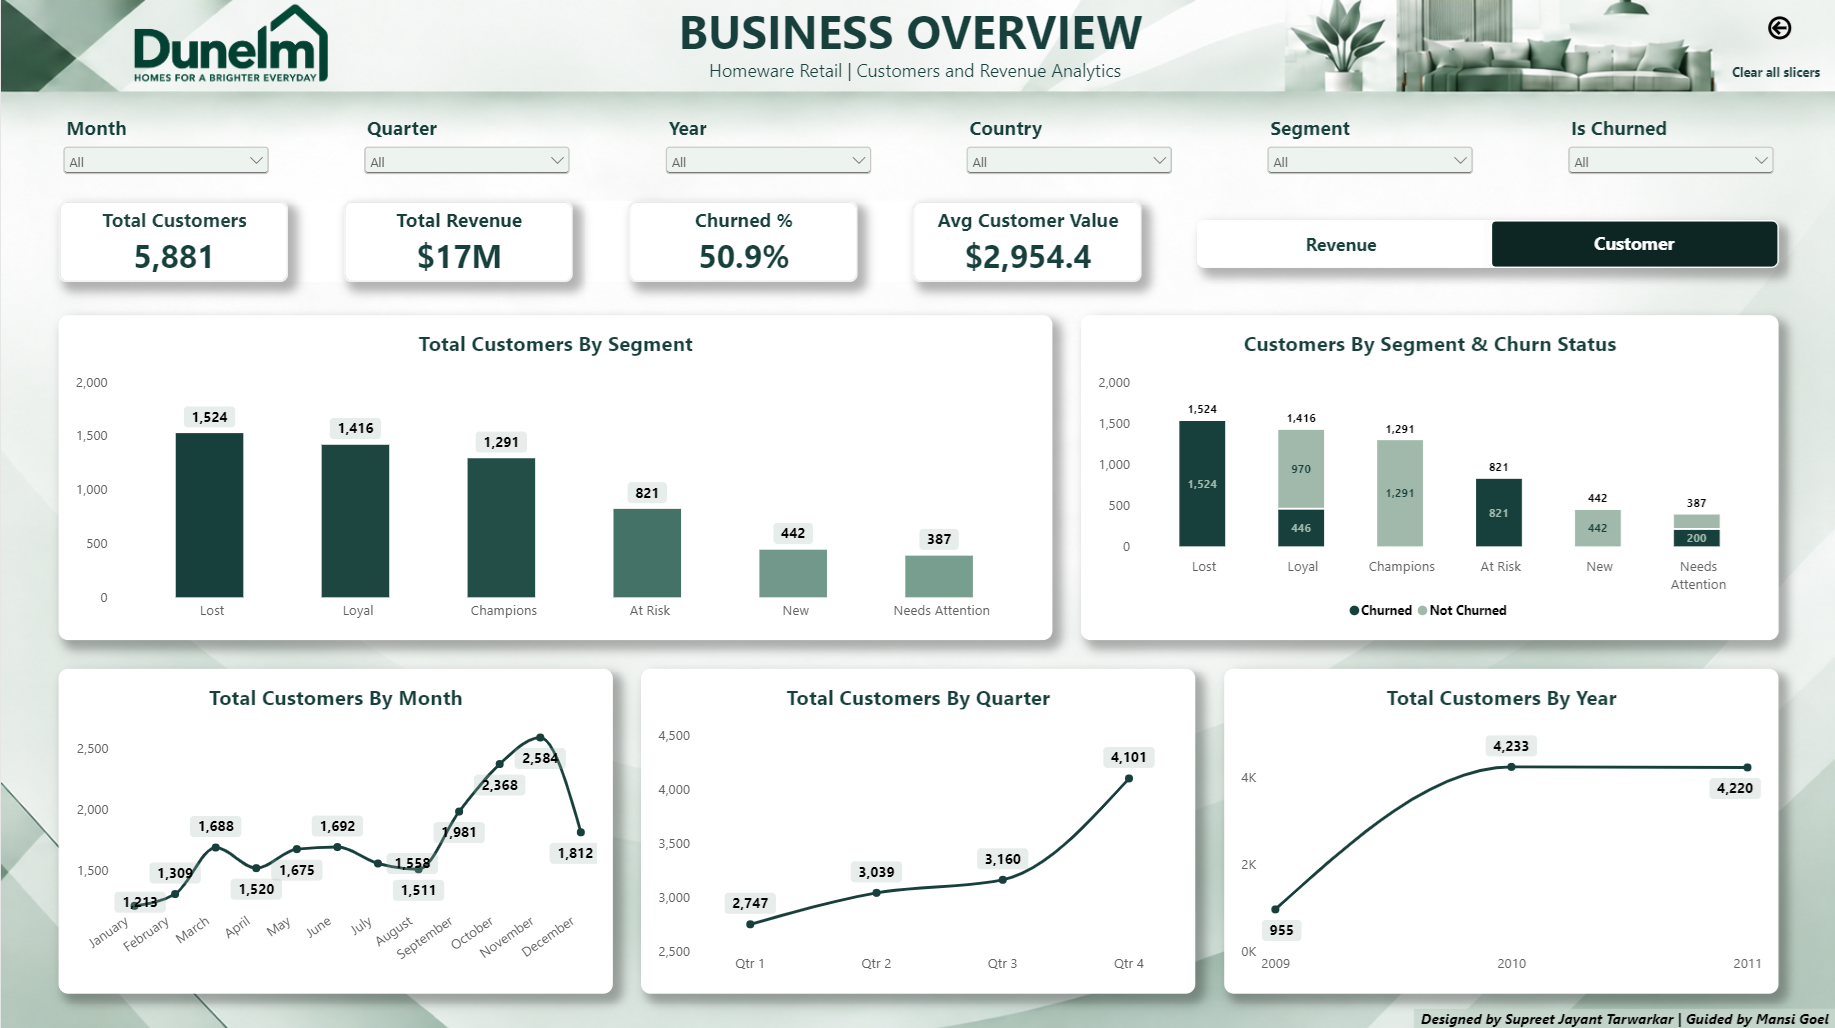

Layout of this report page (visuals, bound fields, positions):
{"tool":"powerbi","page":{"name":"Business Overview","canvas":[1920,1080],"ordinal":1},"visuals":[{"type":"slicer","title":"Month","fields":{"Values":["Sheet1.invoicedate.Variation.Date Hierarchy.Month"]},"box":[60,120,225,65],"z":0,"group":"g3"},{"type":"cardVisual","title":"Total Customers","fields":{"Data":["Cal  Measures.Total Customers"]},"box":[60.4,210,240,85],"z":0,"group":"g2"},{"type":"shape","box":[1478.6,1055.8,441.7,24.2],"z":0},{"type":"slicer","title":"Quarter","fields":{"Values":["Sheet1.invoicedate.Variation.Date Hierarchy.Quarter"]},"box":[375,120,225,65],"z":1000,"group":"g3"},{"type":"cardVisual","title":"Total Revenue","fields":{"Data":["Cal  Measures.Total Revenue"]},"box":[358.2,210,240,85],"z":1000,"group":"g2"},{"type":"textbox","title":"Author","box":[1478.6,1055.8,441.7,24.2],"z":1000},{"type":"slicer","title":"Year","fields":{"Values":["Sheet1.invoicedate.Variation.Date Hierarchy.Year"]},"box":[690,120,225,65],"z":2000,"group":"g3"},{"type":"cardVisual","title":"Churned %","fields":{"Data":["Cal  Measures.Churned %"]},"box":[656.1,210,240,85],"z":2000,"group":"g2"},{"type":"group","id":"g1","title":"Revenue","box":[60,330,1800,710],"z":2000},{"type":"lineChart","title":"Total Revenue By Year","fields":{"Category":["Sheet1.invoicedate.Variation.Date Hierarchy.Year"],"Y":["Cal  Measures.Total Revenue"]},"box":[1280,700,580,340],"z":2500,"group":"g1"},{"type":"slicer","title":"Country","fields":{"Values":["Sheet1.country"]},"box":[1005,120,225,65],"z":3000,"group":"g3"},{"type":"cardVisual","title":"Avg Customer Value","fields":{"Data":["Cal  Measures.Avg Customer Value"]},"box":[953.9,210,240,85],"z":3000,"group":"g2"},{"type":"lineChart","title":"Total Revenue By Quarter","fields":{"Category":["Sheet1.invoicedate.Variation.Date Hierarchy.Quarter"],"Y":["Cal  Measures.Total Revenue"]},"box":[670,700,580,340],"z":3000,"group":"g1"},{"type":"slicer","title":"Segment","fields":{"Values":["Sheet1.Segment"]},"box":[1320,120,225,65],"z":4000,"group":"g3"},{"type":"group","id":"g2","title":"KPI'S","box":[60.4,210,1133.5,85],"z":4000},{"type":"lineChart","title":"Total Revenue By Month","fields":{"Category":["Sheet1.invoicedate.Variation.Date Hierarchy.Month"],"Y":["Cal  Measures.Total Revenue"]},"box":[60,700,580,340],"z":4125,"group":"g1"},{"type":"pieChart","title":"Revenue By Segment & Churn Status","fields":{"Category":["Sheet1.Segment"],"Series":["Sheet1.Churn Status"],"Y":["Cal  Measures.Total Revenue"]},"box":[1130,330,730,340],"z":4250,"group":"g1"},{"type":"clusteredColumnChart","title":"Total Revenue By Segment","fields":{"Category":["Sheet1.Segment"],"Y":["Cal  Measures.Total Revenue"]},"box":[60,330,1040,340],"z":4750,"group":"g1"},{"type":"slicer","title":"Is Churned","fields":{"Values":["Sheet1.IsChurned"]},"box":[1635,120,225,65],"z":5000,"group":"g3"},{"type":"bookmarkNavigator","box":[1251.7,230,609.3,50.3],"z":5000},{"type":"actionButton","title":"Back Botton","box":[1830.1,9.4,61.9,40.4],"z":6000},{"type":"actionButton","title":"Clear Slicer Button","box":[1795.1,54,125,40],"z":7000},{"type":"textbox","title":"Sub Title","box":[741.2,60.6,437.7,35],"z":8000},{"type":"textbox","title":"Title","box":[708.9,0,502.3,80],"z":9000},{"type":"image","title":"Logo","box":[82.1,0,324.5,95.6],"z":10000},{"type":"group","id":"g3","title":"Slicer","box":[60,120,1800,65],"z":11000}]}

Visuals, with their boxes in screenshot pixels (x1, y1, x2, y2), scaled from the page's 1920x1080 canvas onto the 1835x1028 screenshot:
"Month" slicer: (x1=57, y1=114, x2=272, y2=176)
"Total Customers" cardVisual: (x1=58, y1=200, x2=287, y2=281)
shape: (x1=1413, y1=1005, x2=1834, y2=1027)
"Quarter" slicer: (x1=358, y1=114, x2=573, y2=176)
"Total Revenue" cardVisual: (x1=342, y1=200, x2=572, y2=281)
"Author" textbox: (x1=1413, y1=1005, x2=1834, y2=1027)
"Year" slicer: (x1=659, y1=114, x2=874, y2=176)
"Churned %" cardVisual: (x1=627, y1=200, x2=856, y2=281)
"Revenue" group: (x1=57, y1=314, x2=1778, y2=990)
"Total Revenue By Year" lineChart: (x1=1223, y1=666, x2=1778, y2=990)
"Country" slicer: (x1=961, y1=114, x2=1176, y2=176)
"Avg Customer Value" cardVisual: (x1=912, y1=200, x2=1141, y2=281)
"Total Revenue By Quarter" lineChart: (x1=640, y1=666, x2=1195, y2=990)
"Segment" slicer: (x1=1262, y1=114, x2=1477, y2=176)
"KPI'S" group: (x1=58, y1=200, x2=1141, y2=281)
"Total Revenue By Month" lineChart: (x1=57, y1=666, x2=612, y2=990)
"Revenue By Segment & Churn Status" pieChart: (x1=1080, y1=314, x2=1778, y2=638)
"Total Revenue By Segment" clusteredColumnChart: (x1=57, y1=314, x2=1051, y2=638)
"Is Churned" slicer: (x1=1563, y1=114, x2=1778, y2=176)
bookmarkNavigator: (x1=1196, y1=219, x2=1779, y2=267)
"Back Botton" actionButton: (x1=1749, y1=9, x2=1808, y2=47)
"Clear Slicer Button" actionButton: (x1=1716, y1=51, x2=1834, y2=89)
"Sub Title" textbox: (x1=708, y1=58, x2=1127, y2=91)
"Title" textbox: (x1=678, y1=0, x2=1158, y2=76)
"Logo" image: (x1=78, y1=0, x2=389, y2=91)
"Slicer" group: (x1=57, y1=114, x2=1778, y2=176)
